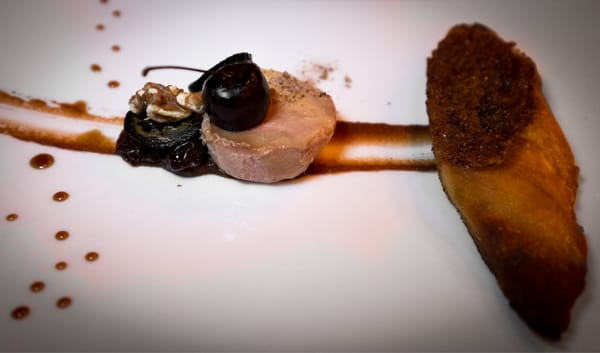salad: (424, 20, 588, 338)
